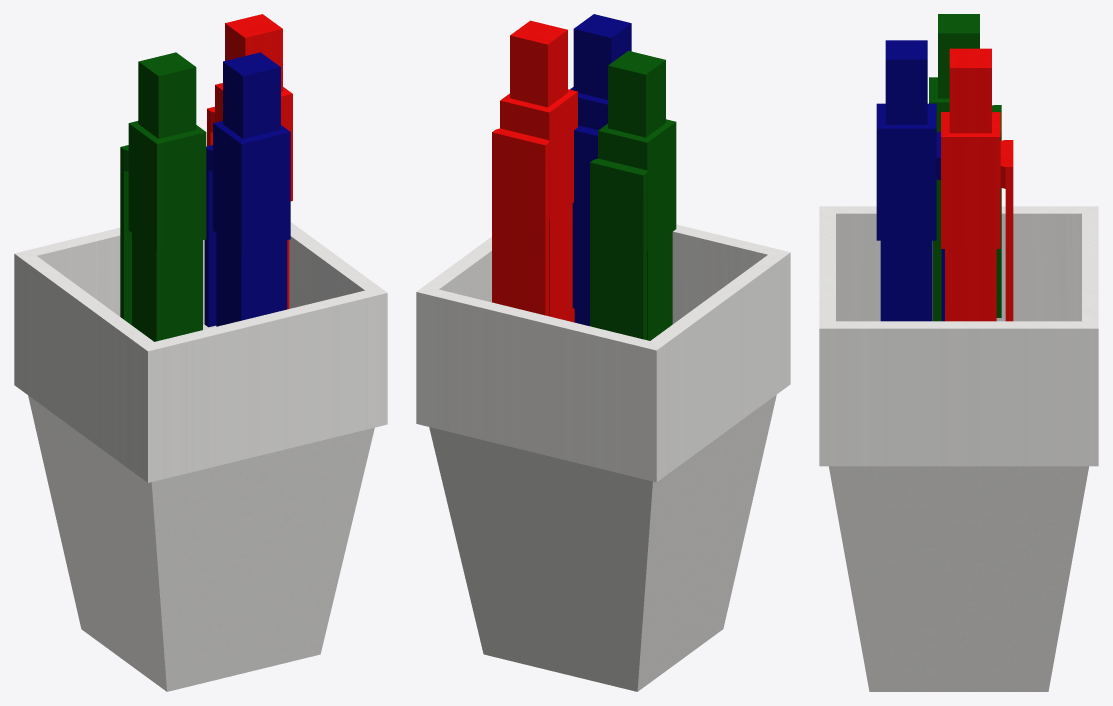
The model's file is cup with pens.fbx.
3 renders of one model, left to right at view 1: azimuth 30°, elevation 25°; view 2: azimuth 150°, elevation 25°; view 3: azimuth 270°, elevation 25°, orthographic. The views are drawn at different scales.
Parts seen in each view (by area): view 1: Cube, Cube.003, Cube.010, Cube.005; view 2: Cube, Cube.005, Cube.003, Cube.010; view 3: Cube, Cube.005, Cube.010, Cube.003.
Boxes of the visible parts, box(x1,y1,x2,y2) form: Cube: box(14, 222, 387, 691); Cube.003: box(120, 52, 206, 341); Cube.010: box(204, 52, 290, 327); Cube.005: box(207, 14, 292, 309); Cube: box(416, 224, 790, 691); Cube.005: box(492, 20, 577, 322); Cube.003: box(590, 50, 676, 340); Cube.010: box(570, 14, 631, 326); Cube: box(819, 206, 1098, 691); Cube.005: box(941, 48, 1013, 321); Cube.010: box(876, 40, 944, 321); Cube.003: box(929, 14, 1001, 321).
Bounding box in the file's own units: 54.47 × 130 × 52.63.
